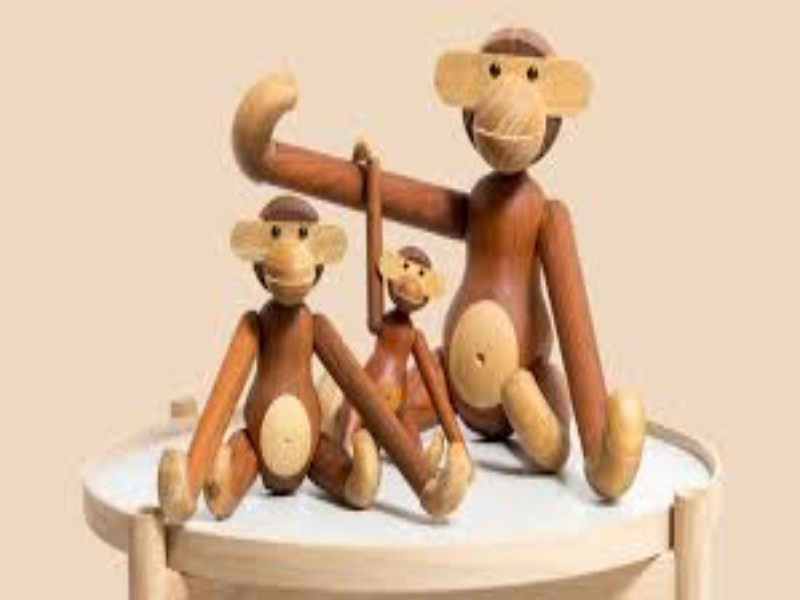monkey: (141, 21, 671, 554)
